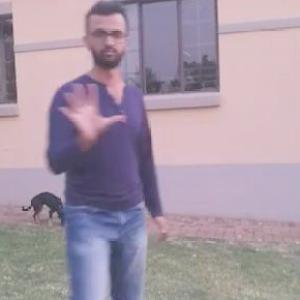follow_hand: (55, 78, 127, 150)
